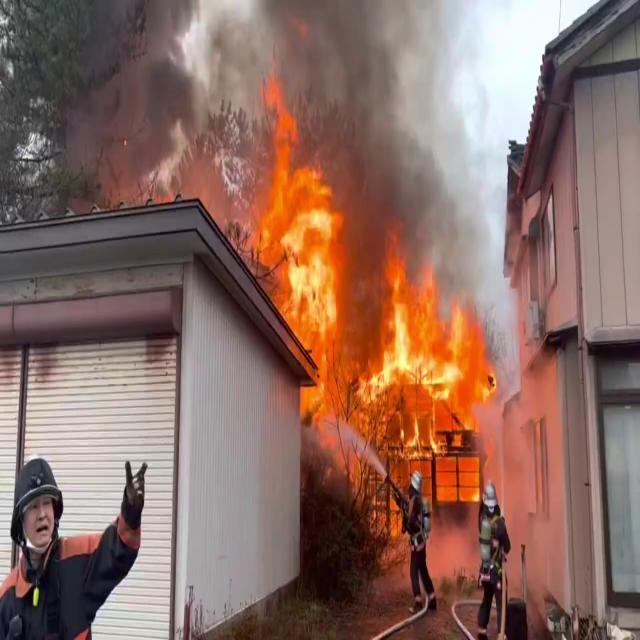Fire: (246, 109, 354, 404), (364, 257, 496, 484)
Smoke: (297, 0, 469, 247), (19, 0, 235, 196)
